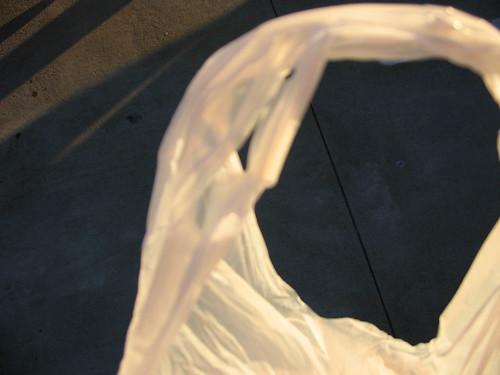plastic bag: (116, 2, 500, 375)
